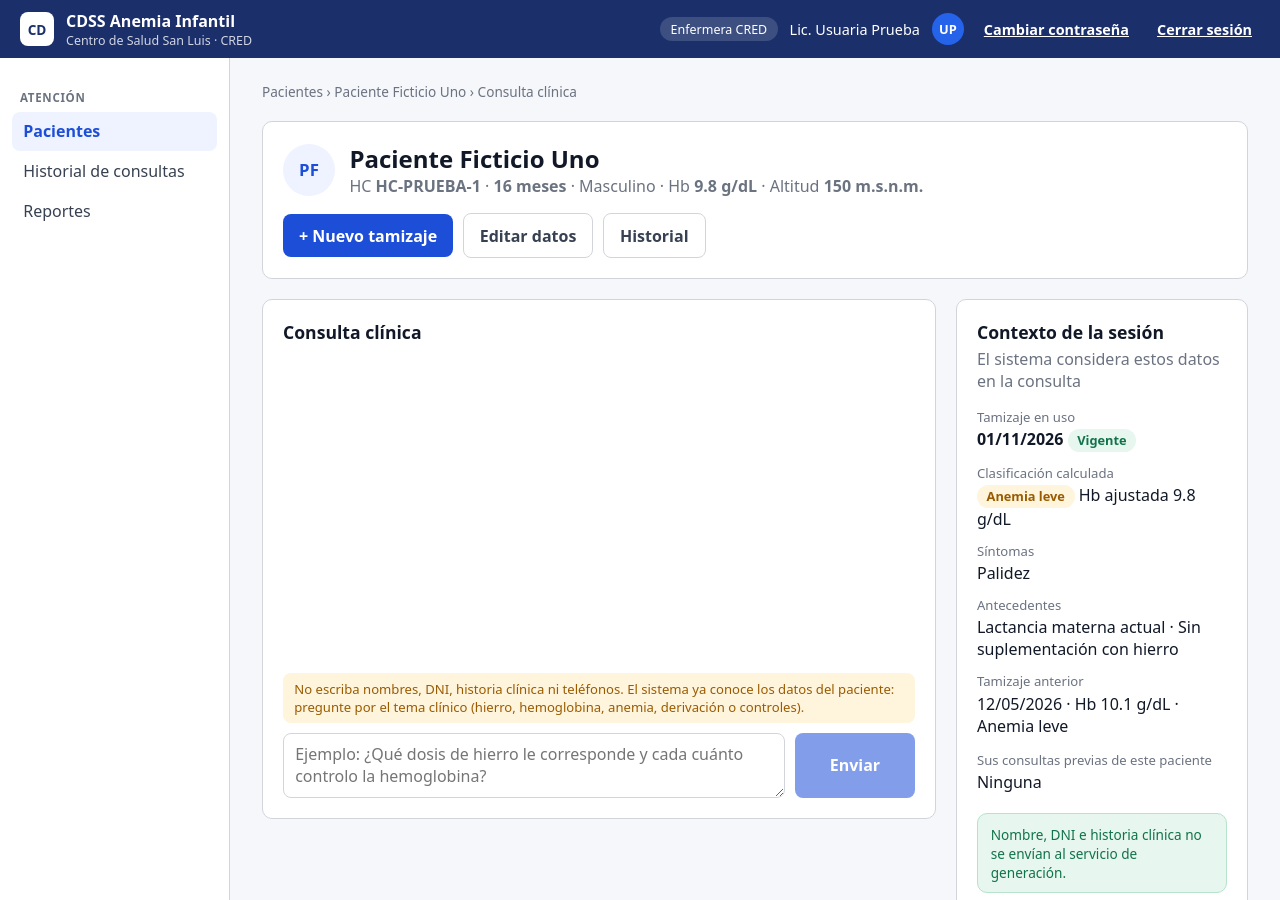
Test: M04 · Consulta clínica › un 401 del stream cierra la sesión en pantalla
The width and height of the screenshot is (1280, 900).
Replace the text in the text box named "Consulta sobre el paciente" with "¿Qué dosis de hierro corresponde según su hemoglobina?" at (534, 765), box [283,733,785,798]
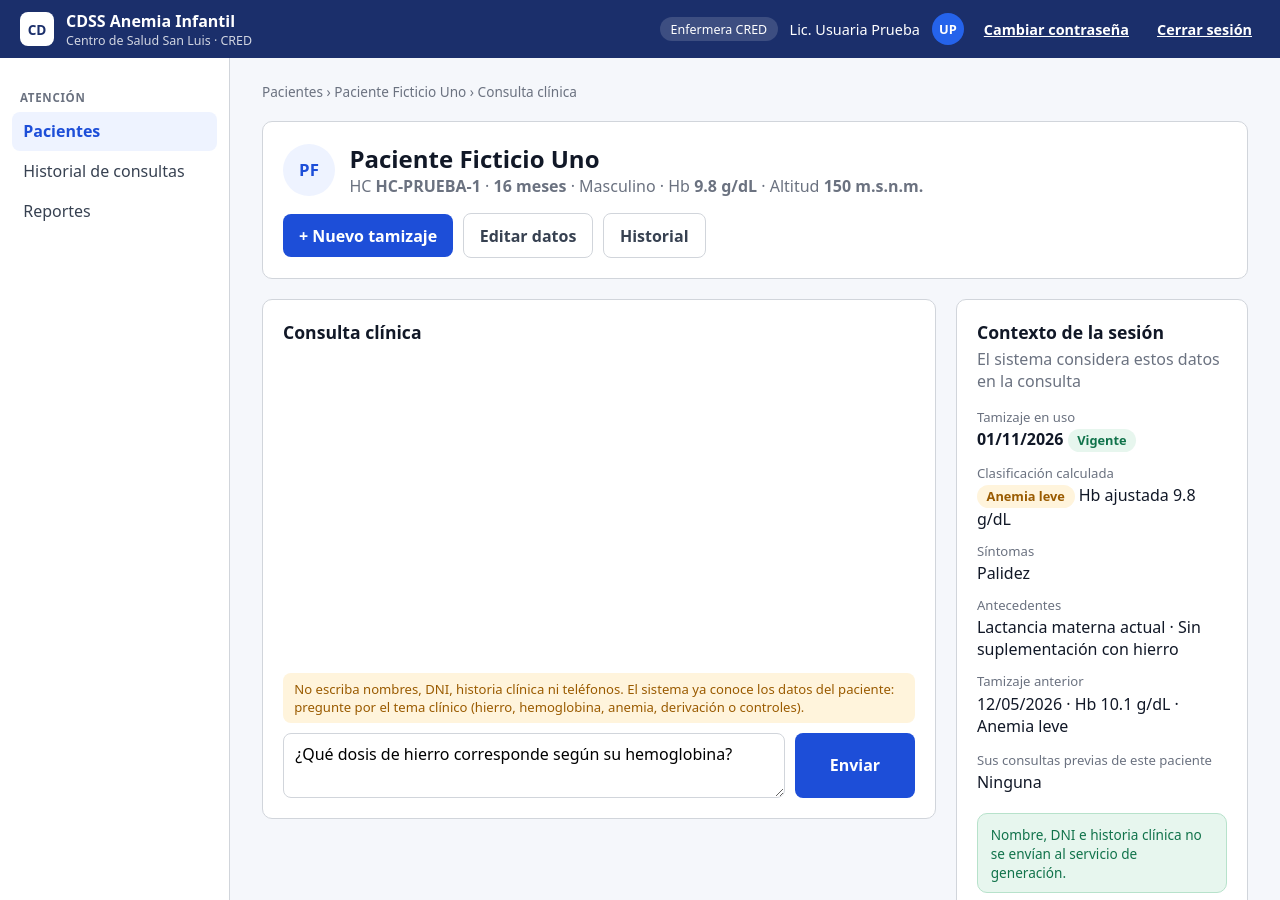
Click the button "Enviar" at (855, 765), box [795,733,915,798]
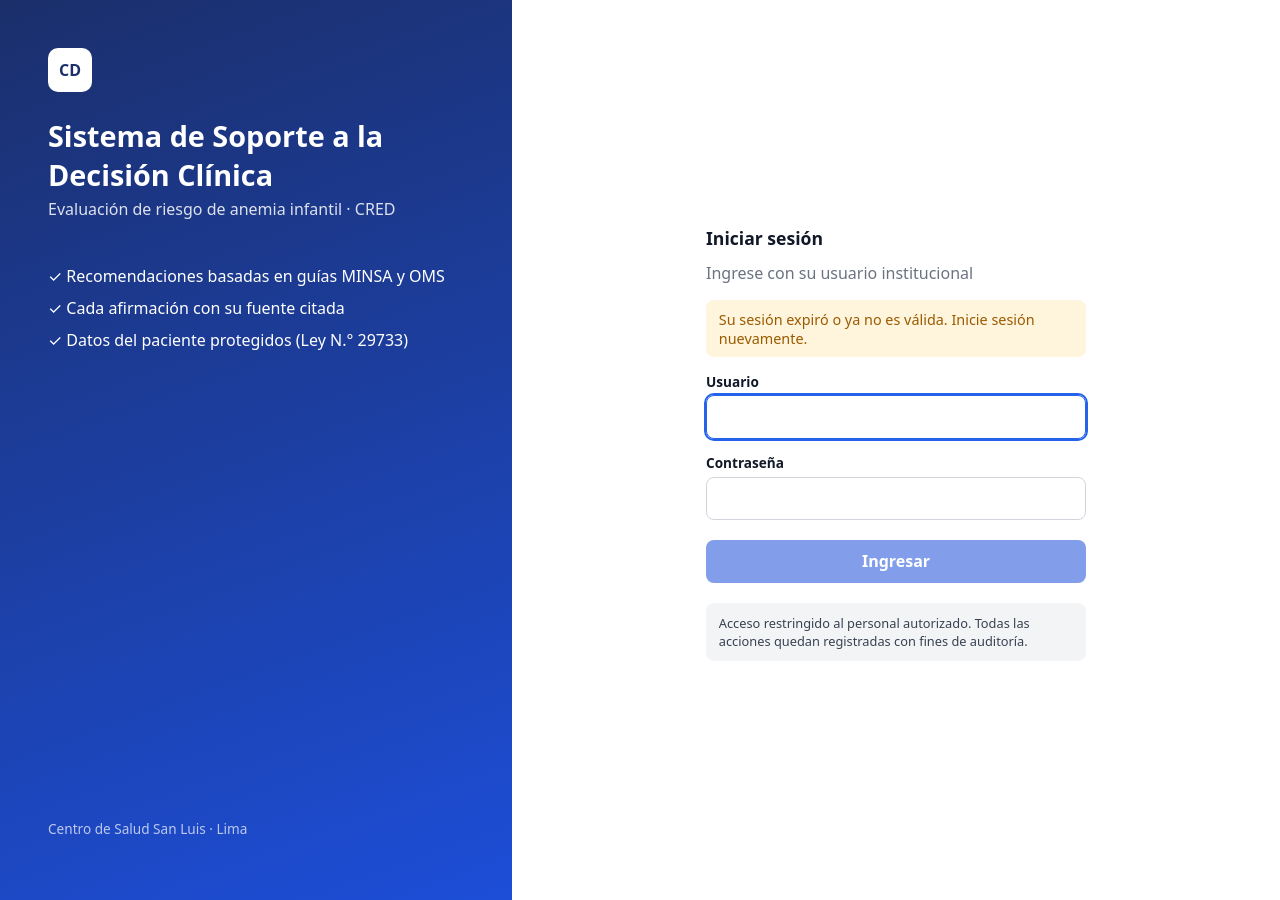
Result: the heading "Iniciar sesión" is shown at [706,226,823,250]
Result: the text "Su sesión expiró o ya no es válida. Inicie sesión nuevamente." is shown at [706,300,1086,357]
